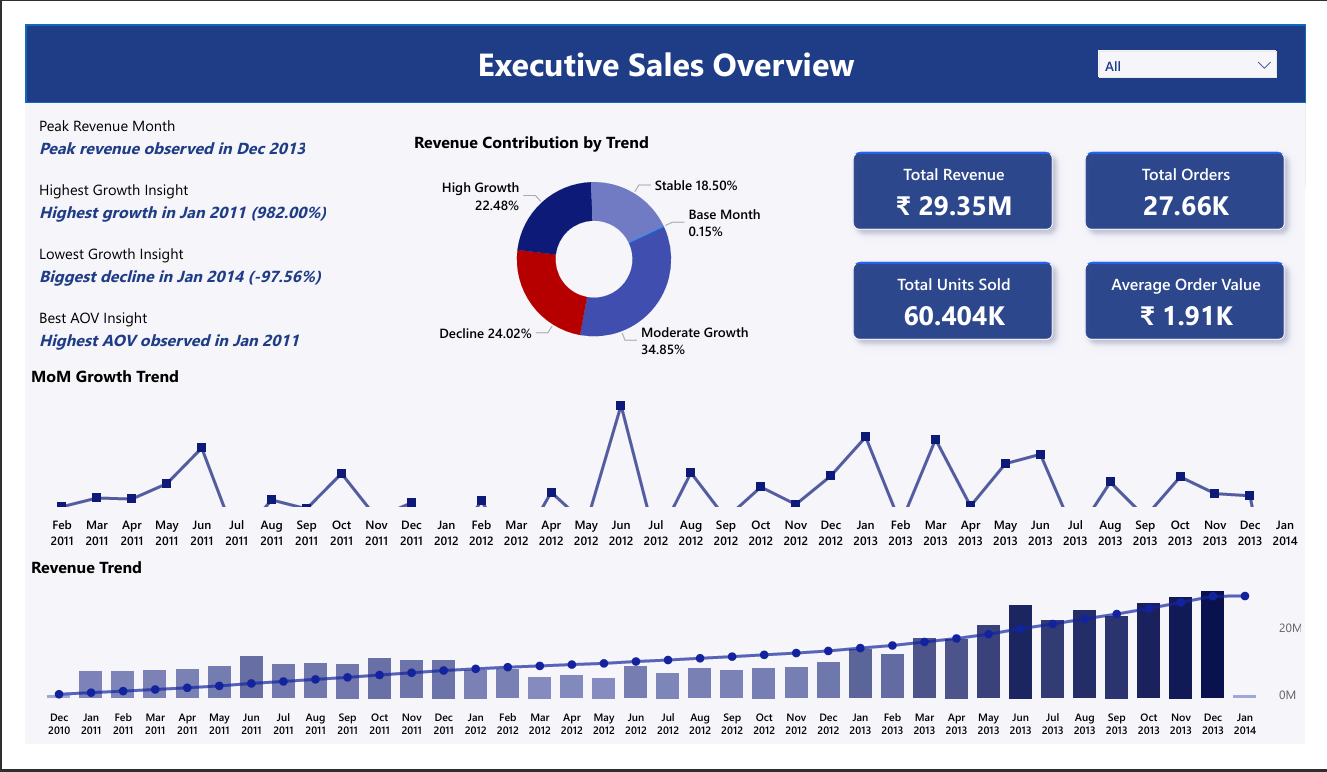

The page's visual inventory and layout, read from the dashboard file:
{"tool":"powerbi","page":{"name":"Executive Sales Overview","canvas":[1280,720],"ordinal":0},"visuals":[{"type":"shape","box":[0,0,1280,78.4],"z":0},{"type":"cardVisual","fields":{"Data":["gold report_sales_performance.total_revenue","gold report_sales_performance.total_orders","gold report_sales_performance.total_quantity","gold report_sales_performance.Avg Order Value"]},"box":[805.8,106.4,474.5,229.9],"z":1000},{"type":"lineClusteredColumnComboChart","title":"Revenue Trend","fields":{"Category":["gold report_sales_performance.Month Year"],"Y":["Sum(gold report_sales_performance.total_monthly_revenue)"],"Y2":["Sum(gold report_sales_performance.running_revenue)"]},"box":[0,530.7,1280.3,189.5],"z":2000},{"type":"donutChart","title":"Revenue Contribution by Trend","fields":{"Category":["gold report_sales_performance.trend_label"],"Y":["Sum(gold report_sales_performance.total_monthly_revenue)"]},"box":[382.7,106.4,370.5,233.6],"z":3000},{"type":"stackedAreaChart","title":"MoM Growth Trend","fields":{"Category":["gold report_sales_performance.Month Year"],"Y":["gold report_sales_performance.MoM Growth Clean %"]},"box":[0,339.9,1280.3,190.8],"z":4000},{"type":"textbox","box":[411.4,10.9,457.2,57.9],"z":5000},{"type":"cardVisual","title":"Insight of sales performance","fields":{"Data":["gold report_sales_performance.Peak Revenue Month","gold report_sales_performance.Highest Growth Insight","gold report_sales_performance.Lowest Growth Insight","gold report_sales_performance.Best AOV Insight"]},"box":[0,78.2,347.2,259.3],"z":6000},{"type":"slicer","fields":{"Values":["gold report_sales_performance.Month Year"]},"box":[1063.2,15.9,197.5,47.6],"z":7000}]}

Visuals, with their boxes on the page's 1280x720 design canvas (x1, y1, x2, y2). These are canvas units, not pixel positions in the 1327x772 screenshot, which may show the page scaled, cropped or inside an application window:
shape: (0, 0, 1280, 78)
cardVisual - gold report_sales_performance.total_revenue x gold report_sales_performance.total_orders: (806, 106, 1280, 336)
"Revenue Trend" lineClusteredColumnComboChart: (0, 531, 1280, 720)
"Revenue Contribution by Trend" donutChart: (383, 106, 753, 340)
"MoM Growth Trend" stackedAreaChart: (0, 340, 1280, 531)
textbox: (411, 11, 869, 69)
"Insight of sales performance" cardVisual: (0, 78, 347, 338)
slicer - gold report_sales_performance.Month Year: (1063, 16, 1261, 64)
